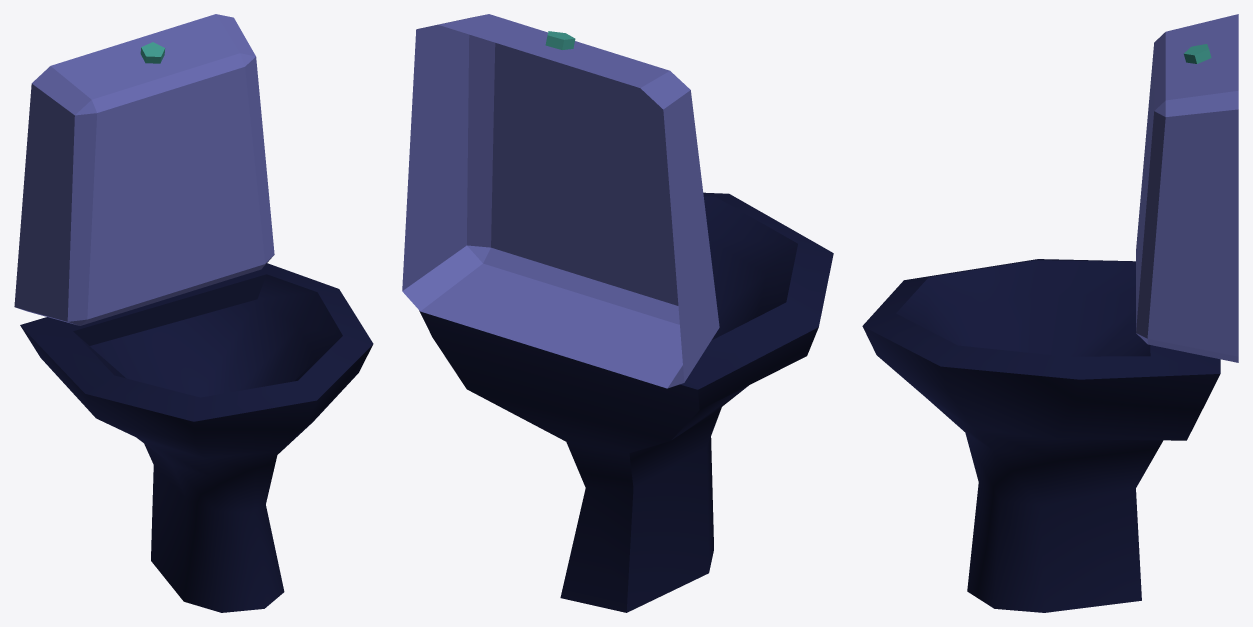
File: MDL_Vater.FBX
3 views of the same model, side by side, from view 1: azimuth 30°, elevation 25°; view 2: azimuth 150°, elevation 25°; view 3: azimuth 270°, elevation 25° (orthographic). The views are drawn at different scales.
Visible parts, largest first — view 1: Line010; view 2: Line010; view 3: Line010.
Part boxes in pixels (box(x1,y1,x2,y2)): Line010: box(14, 14, 373, 612); Line010: box(402, 14, 833, 612); Line010: box(862, 14, 1238, 612).
Size of the model in its own units: 29.83 by 50.92 by 32.1.
